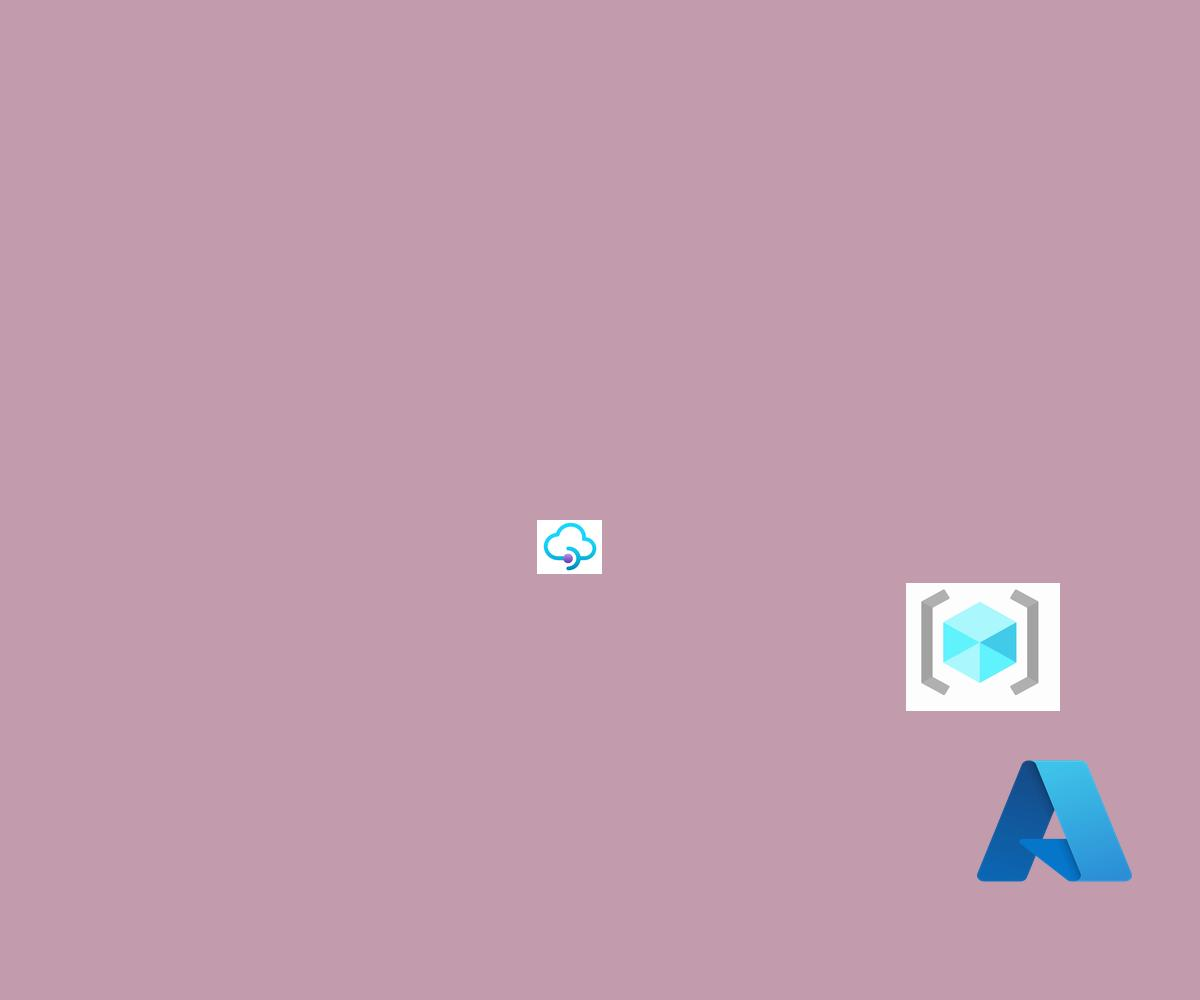Azure_api_gateway: (537, 520, 602, 574)
Azure_resource_group: (906, 583, 1060, 711)
Azure_services: (970, 751, 1139, 891)
